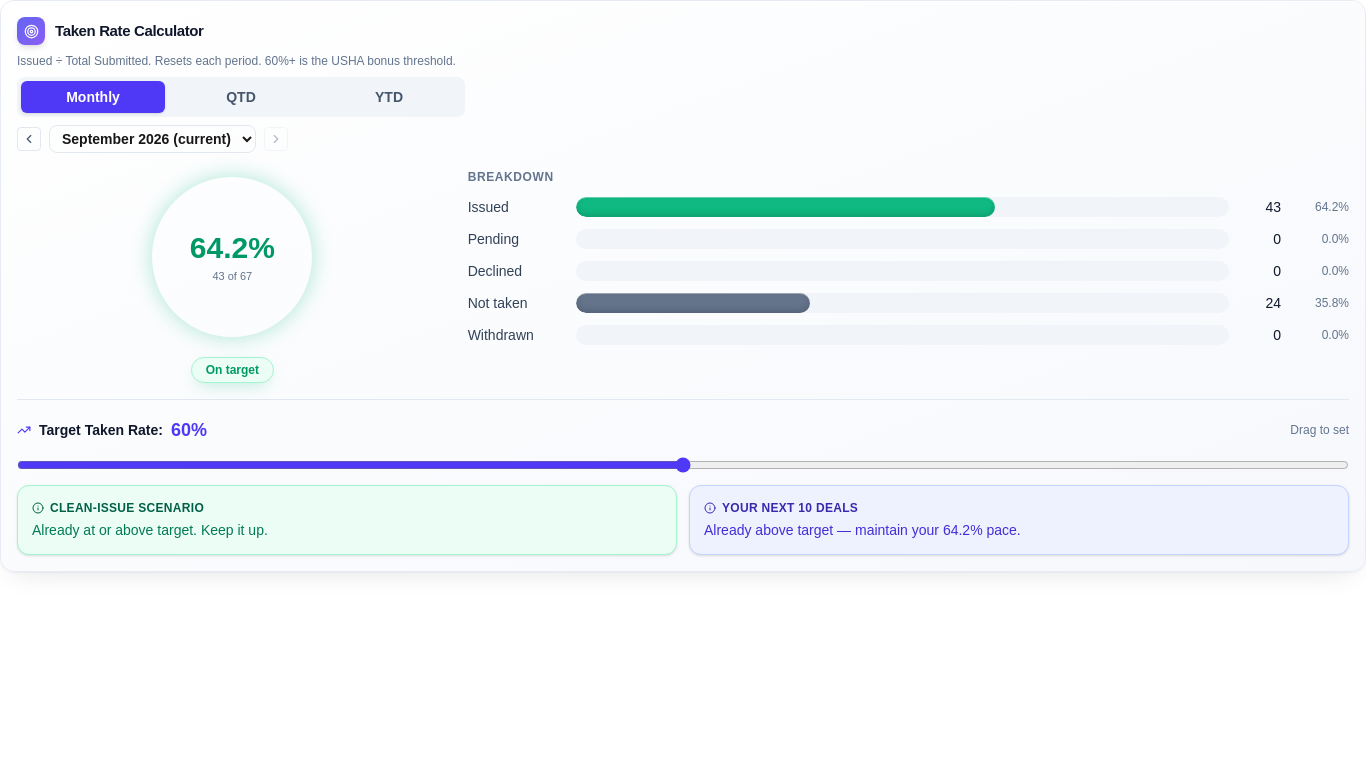
Test: next-10 panel: 43/67 @66% says issue 8 of 10 and projects 66.2%
Set the slider to "66" at (815, 465), box [17,457,1349,473]
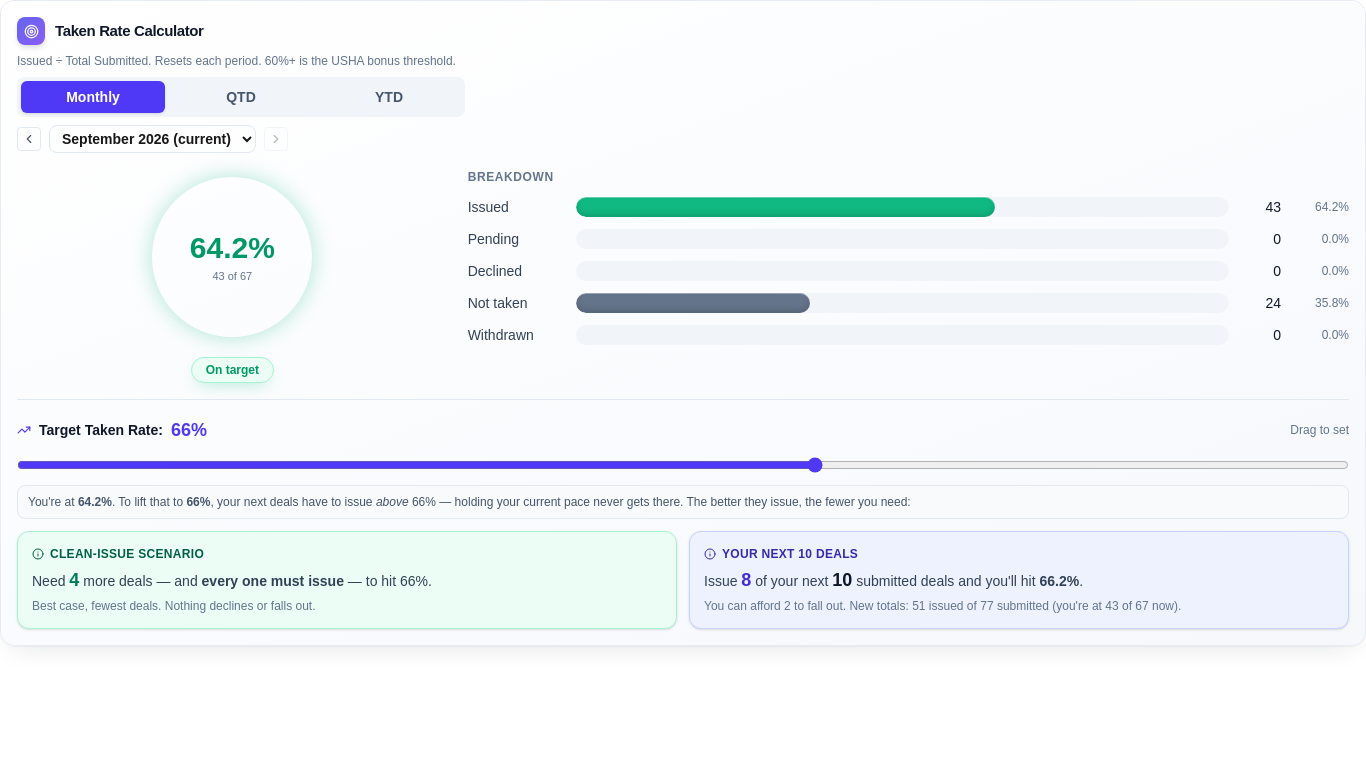
Check: the text "8" is shown, box [741,570,751,590]
Check: the text "10" is shown, box [832,570,852,590]
Check: the text "66.2%" is shown, box [1040,573,1079,589]
